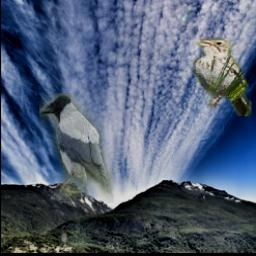Crow: (39, 94, 114, 204)
Sparrow: (192, 37, 253, 116)
